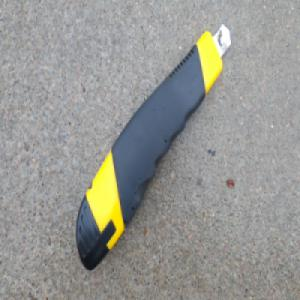Cutter: (74, 22, 232, 275)
